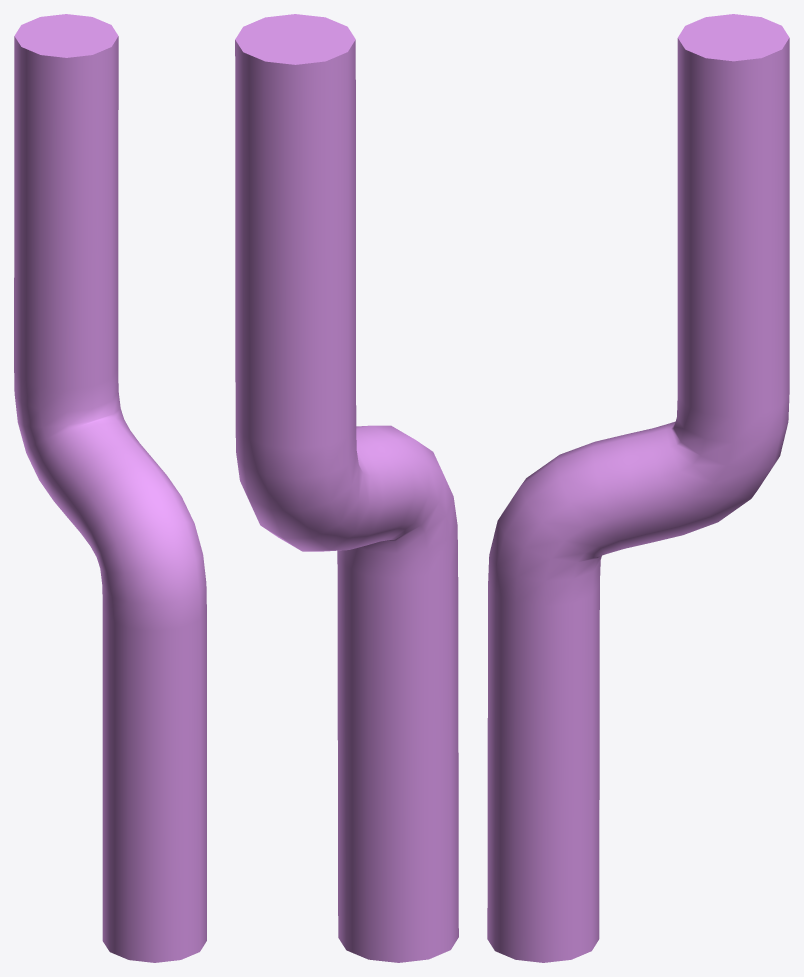
The model's file is Pipe.obj.
3 renders of one model, left to right at view 1: azimuth 30°, elevation 25°; view 2: azimuth 150°, elevation 25°; view 3: azimuth 270°, elevation 25°, orthographic. The views are drawn at different scales.
Parts seen in each view (by area): view 1: PipeMesh; view 2: PipeMesh; view 3: PipeMesh.
Boxes of the visible parts, x1,y1,x2,y2 form: PipeMesh: (14, 14, 206, 962); PipeMesh: (235, 14, 458, 962); PipeMesh: (487, 14, 789, 962).
Bounding box in the file's own units: 2.01 × 17.8 × 5.4.
